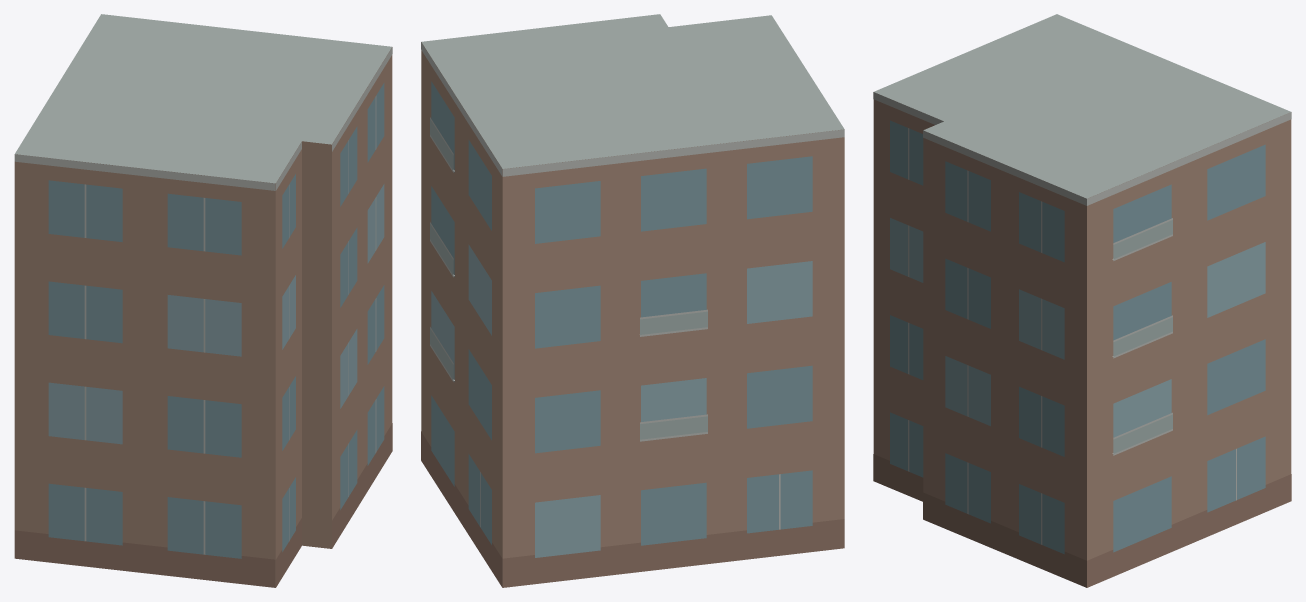
Rendered from survey-upis-33000301.glb.
3 views of the same model, side by side, from view 1: azimuth 30°, elevation 25°; view 2: azimuth 150°, elevation 25°; view 3: azimuth 270°, elevation 25° (orthographic). The views are drawn at different scales.
Visible parts, largest first — view 1: survey-upis-33000301.tmp; view 2: survey-upis-33000301.tmp; view 3: survey-upis-33000301.tmp.
Part boxes in pixels (bbox=[...]): survey-upis-33000301.tmp: bbox=[14, 14, 392, 587]; survey-upis-33000301.tmp: bbox=[421, 14, 844, 587]; survey-upis-33000301.tmp: bbox=[873, 14, 1291, 587].
Size of the model in its own units: 13.24 by 13 by 12.66.
